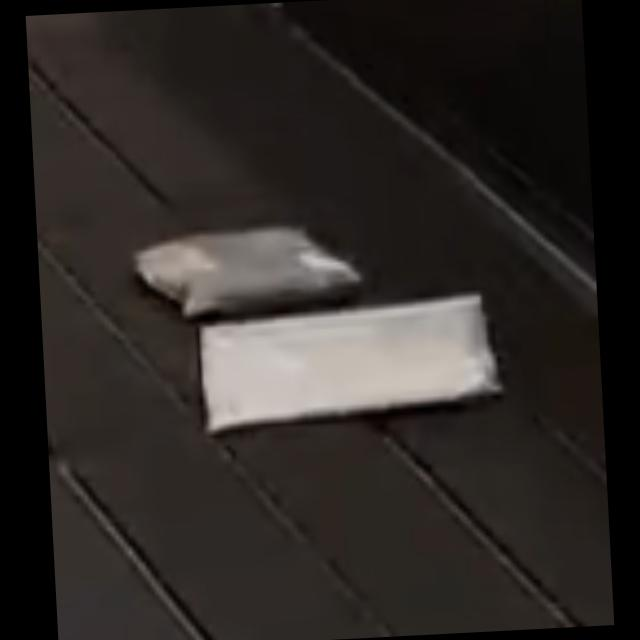mailer: (190, 294, 500, 434), (132, 220, 352, 328)
